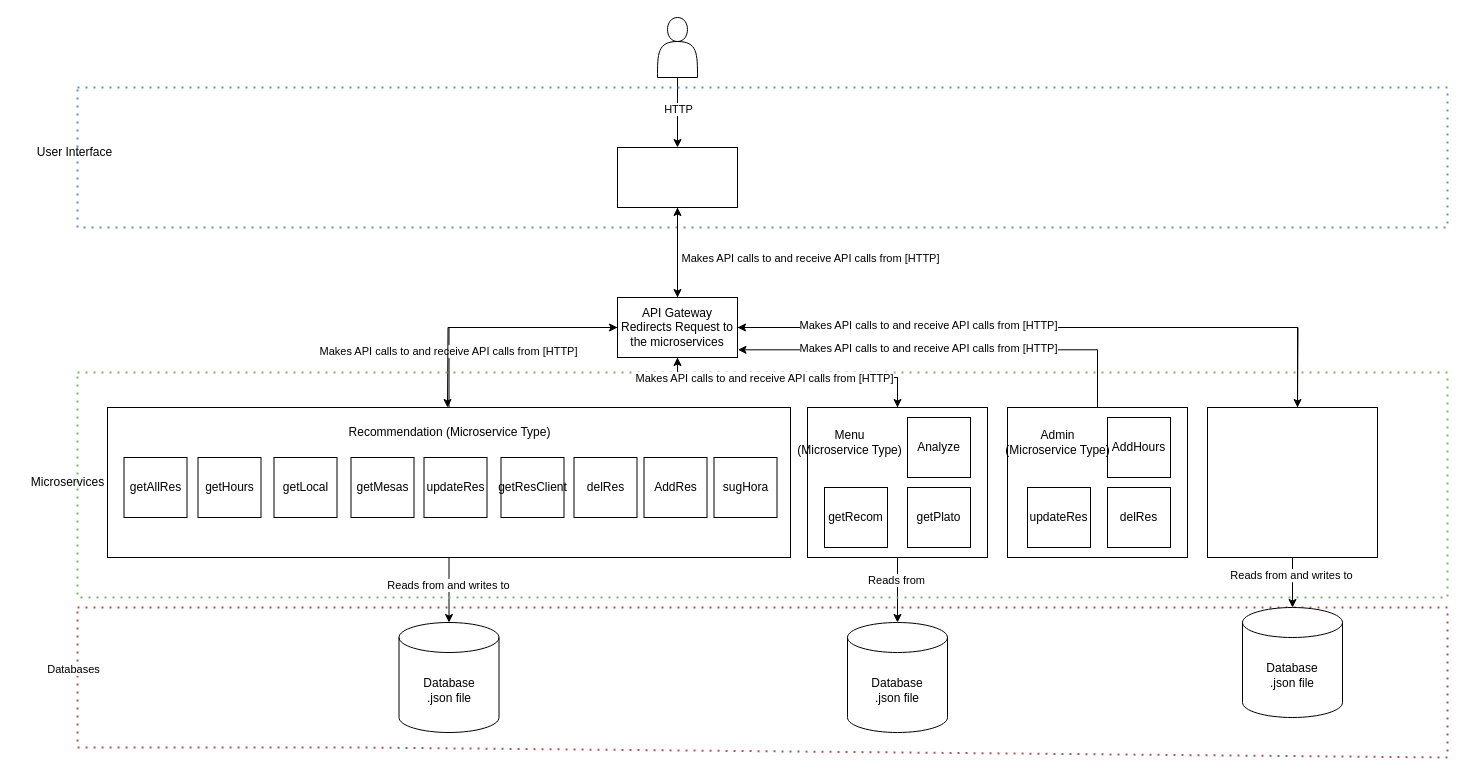
Image size: 1466x777. Some labels were removed from this diagram. The shapes that lost their labels are listed below. From the top down, each one's centre as x and y in pixels, then its label:
At pixel 677 177: "FRONTEND".
At pixel 1292 482: "Authentication".
